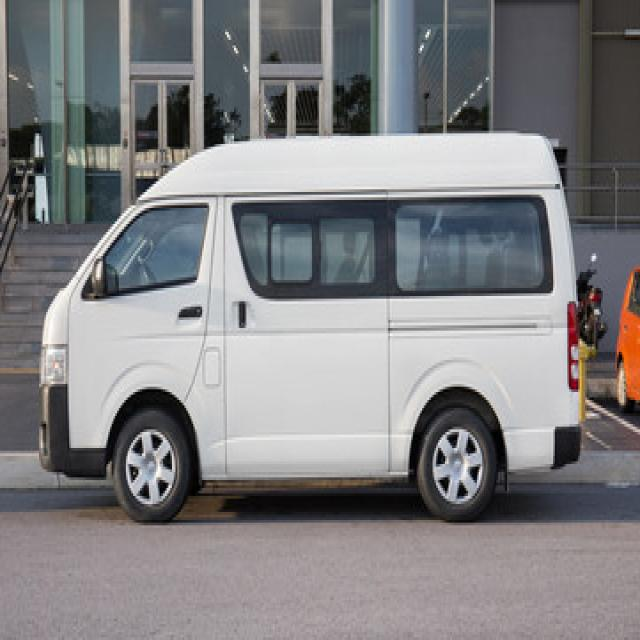car: (615, 267, 638, 411)
van: (39, 133, 578, 520)
